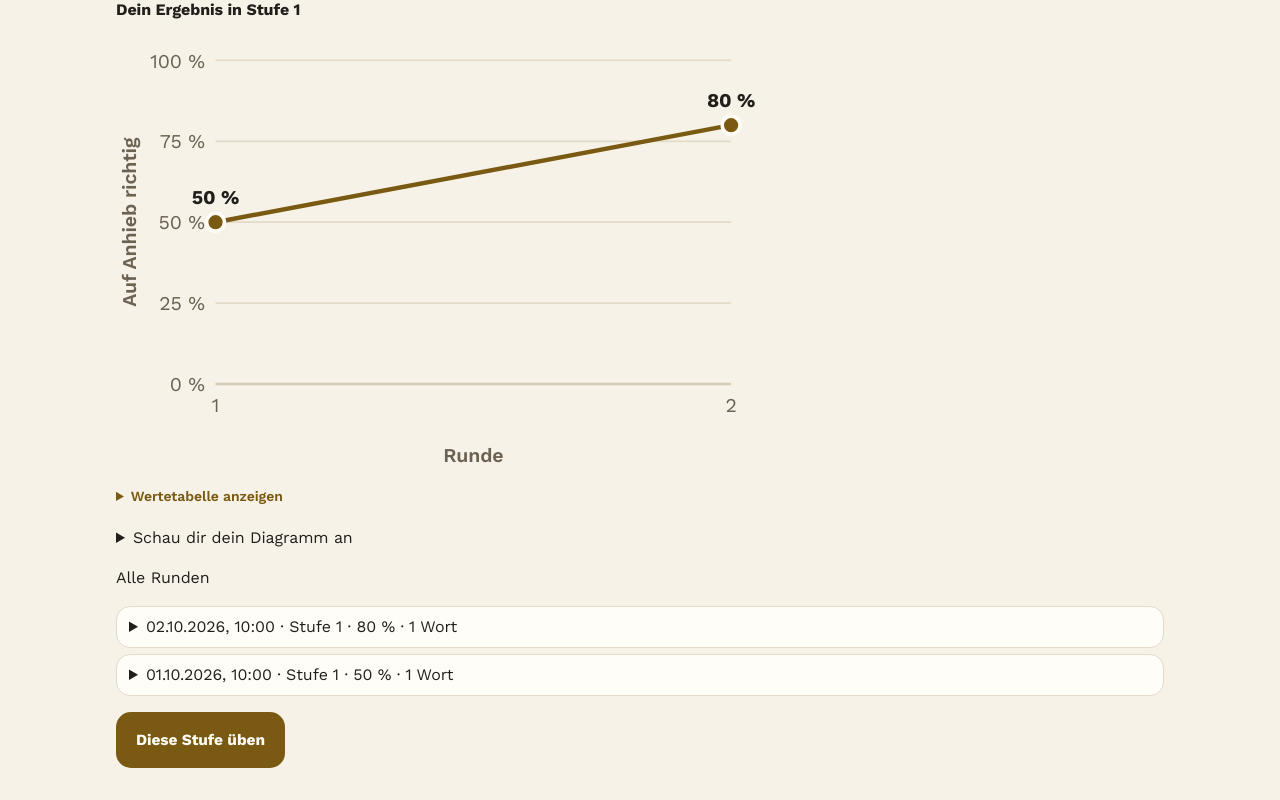
Scenario: HistoryScreen › zeigt Reflexionsfragen erst ab zwei Runden der Stufe
(page scrolled)
Click the heading "Schau dir dein Diagramm an": point(243, 538) [133,528,353,547]
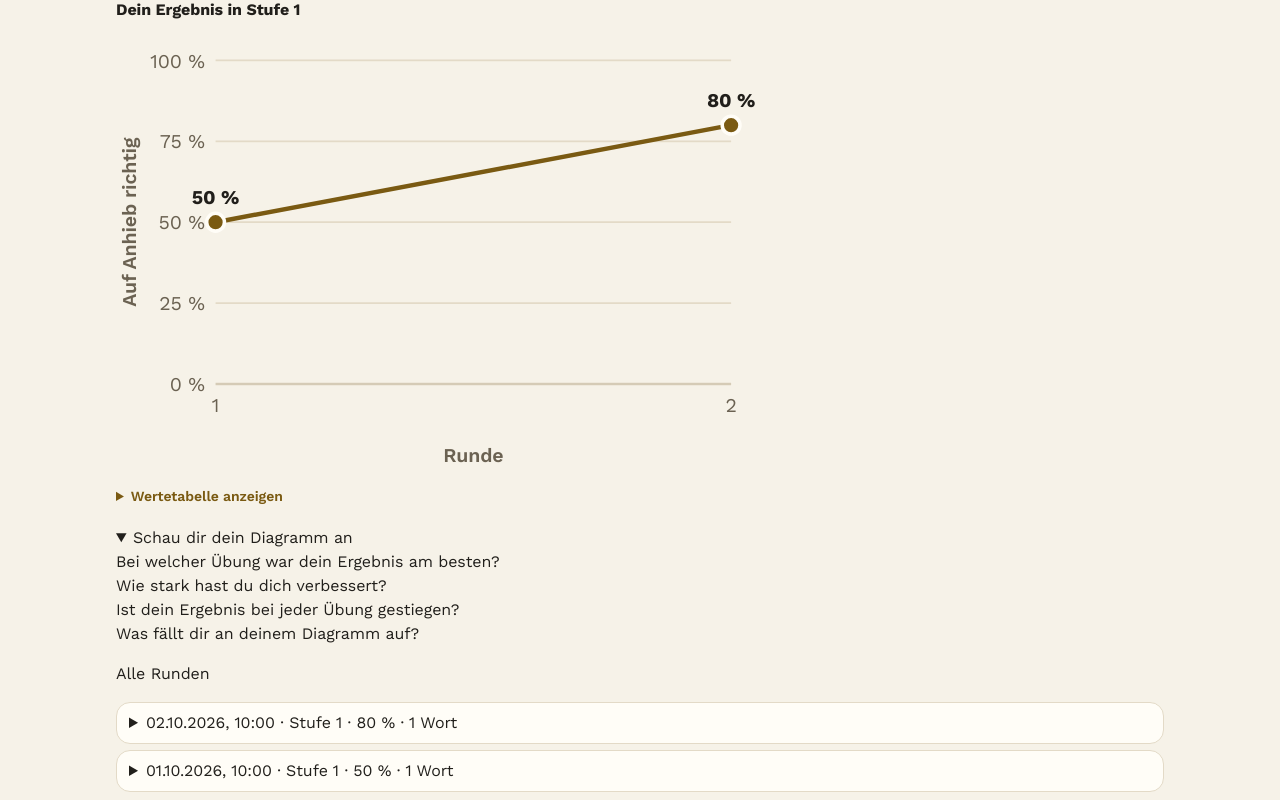
Expected: the list item "Wie stark hast du dich verbessert?" is shown, [116,576,386,595]
